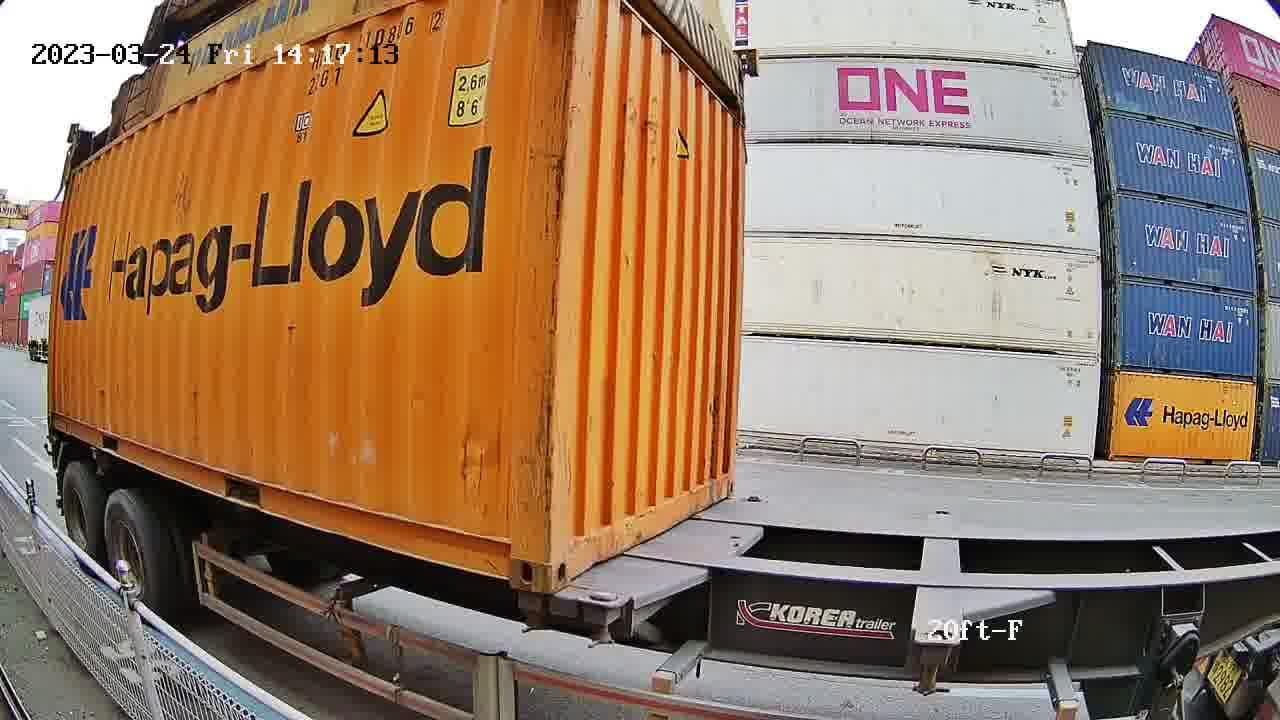Chassis: (585, 497, 766, 607)
Cone: (579, 589, 620, 649), (513, 589, 546, 636)
Hole_L: (552, 497, 597, 594)
Hole_R: (472, 510, 551, 594), (715, 461, 736, 503)
Tire: (105, 493, 160, 612), (63, 468, 100, 568)
